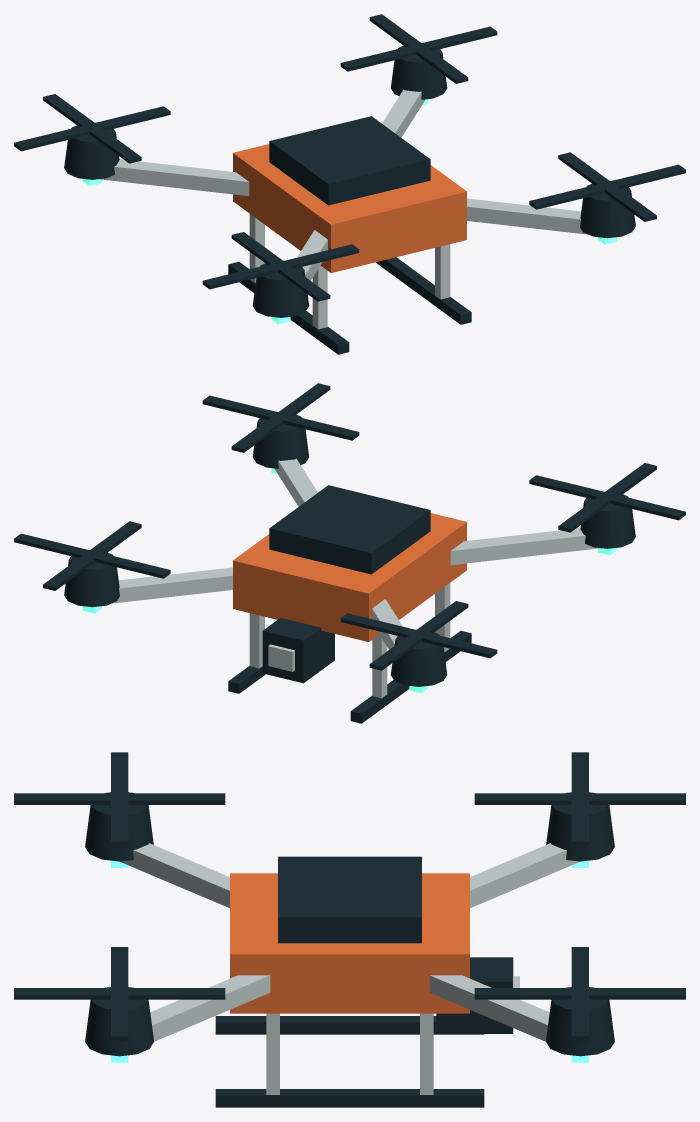
Rendered from rescue-quadcopter.glb.
The picture shows the model from 3 angles, top to bottom: view 1: azimuth 30°, elevation 25°; view 2: azimuth 150°, elevation 25°; view 3: azimuth 270°, elevation 25°; orthographic projection. The views are drawn at different scales.
Visible parts, largest first — view 1: object 1, object 2, object 5, Rotor14, Rotor10, Rotor18, Rotor6, object 17, object 10, object 18, object 6, object 14 (+7 smaller); view 2: object 1, object 2, object 3, object 9, Rotor18, Rotor6, Rotor14, Rotor10, object 13, object 6, object 14, object 10 (+9 smaller); view 3: object 1, object 2, object 26, Rotor6, Rotor10, Rotor14, Rotor18, object 23, object 13, object 17, object 5, object 9 (+7 smaller).
Boxes of the visible parts, x1,y1,x2,y2 form: object 1: [233, 144, 466, 272]; object 2: [269, 116, 430, 205]; object 5: [99, 159, 249, 196]; Rotor14: [340, 14, 497, 83]; Rotor10: [202, 232, 359, 301]; Rotor18: [529, 152, 685, 221]; Rotor6: [14, 94, 170, 163]; object 17: [467, 198, 587, 234]; object 10: [252, 260, 309, 317]; object 18: [580, 181, 635, 238]; object 6: [64, 125, 119, 179]; object 14: [391, 45, 447, 99]; object 1: [233, 513, 466, 641]; object 2: [269, 485, 430, 574]; object 3: [262, 618, 334, 683]; object 9: [450, 528, 600, 565]; Rotor18: [202, 383, 359, 452]; Rotor6: [340, 601, 497, 670]; Rotor14: [14, 521, 170, 590]; Rotor10: [529, 463, 685, 532]; object 13: [112, 567, 232, 603]; object 6: [390, 629, 447, 686]; object 14: [64, 550, 119, 607]; object 10: [580, 494, 635, 548]; object 1: [230, 873, 469, 1013]; object 2: [278, 856, 421, 943]; object 26: [215, 1089, 484, 1107]; Rotor6: [474, 752, 685, 845]; Rotor10: [14, 752, 225, 845]; Rotor14: [474, 947, 685, 1040]; Rotor18: [14, 947, 225, 1040]; object 23: [215, 1016, 484, 1034]; object 13: [429, 975, 549, 1041]; object 17: [150, 975, 270, 1041]; object 5: [470, 843, 579, 907]; object 9: [120, 843, 229, 907].
Bounding box in the file's own units: 3.5 × 1.04 × 3.5.
